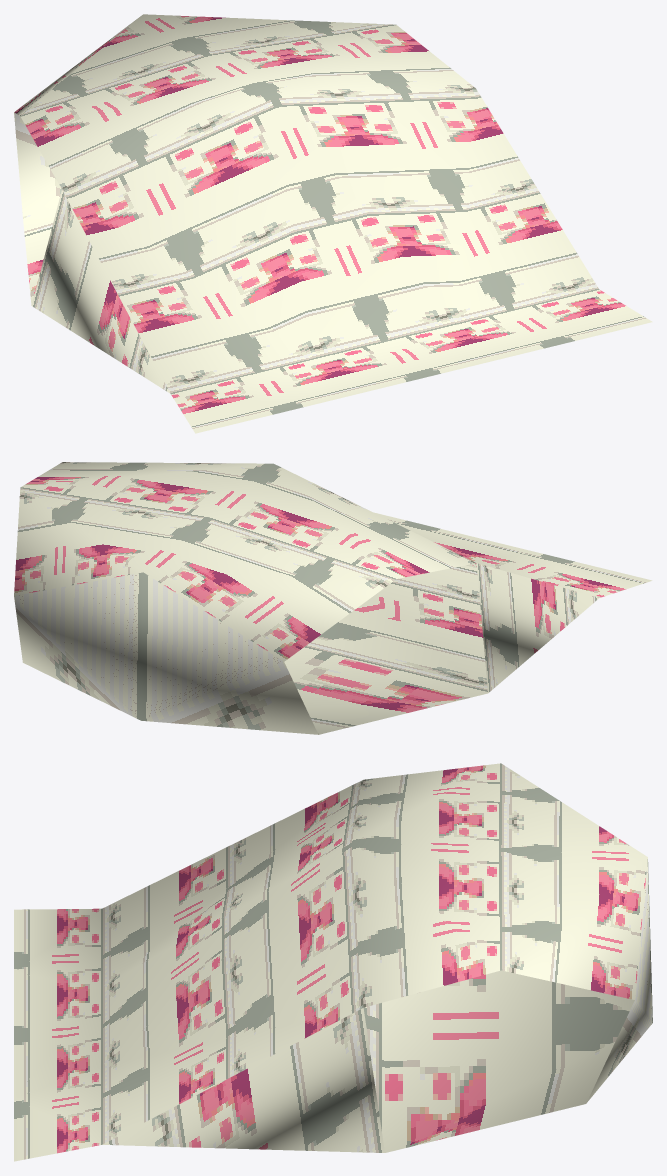
Rendered from 2508top000_c.gltf.
3 renders of one model, top to bottom at view 1: azimuth 30°, elevation 25°; view 2: azimuth 150°, elevation 25°; view 3: azimuth 270°, elevation 25°, orthographic. The views are drawn at different scales.
Visible parts, largest first — view 1: 2508top000_c; view 2: 2508top000_c; view 3: 2508top000_c.
Part boxes in pixels (x1,y1,x2,y2): 2508top000_c: (14, 14, 652, 433); 2508top000_c: (14, 462, 652, 734); 2508top000_c: (14, 763, 652, 1161).
Bounding box in the file's own units: 0.7598 × 0.2717 × 0.814.
Materials: 1 (1 with a texture image).
